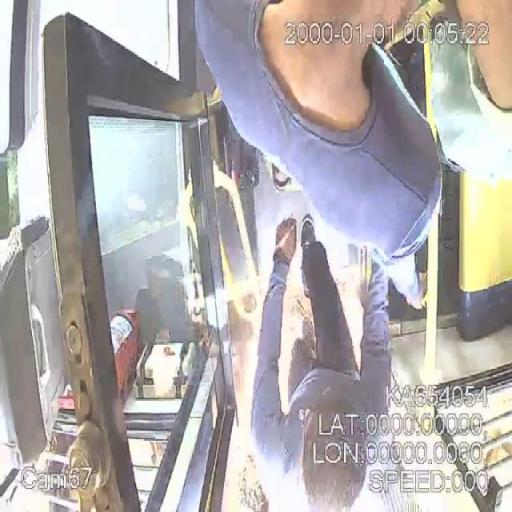persona: (192, 0, 448, 261), (249, 213, 395, 510)
